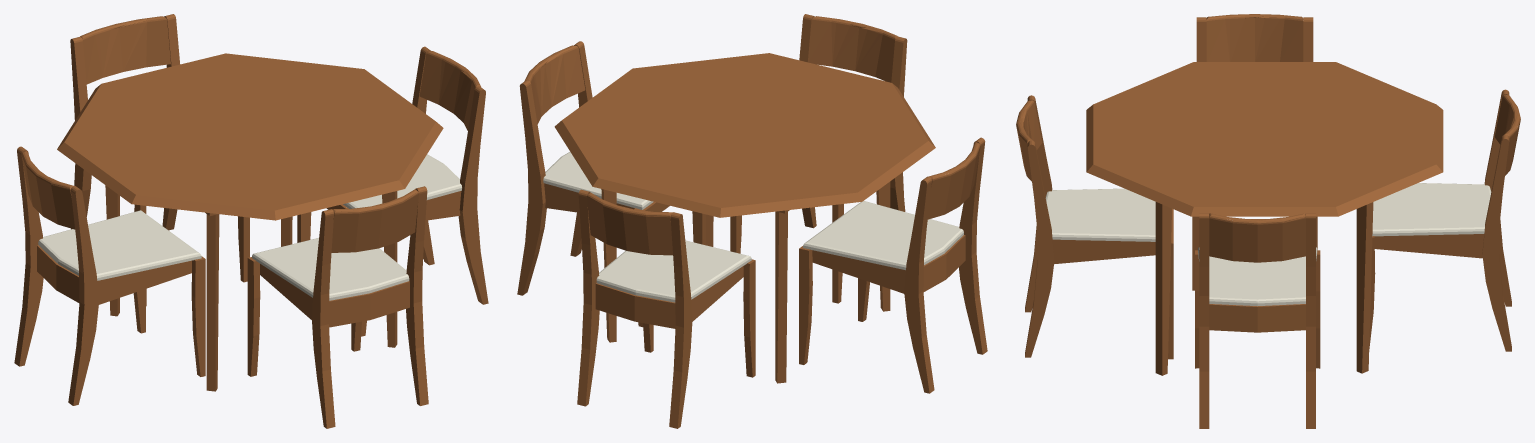
Rendered from DiningTable.glb.
The picture shows the model from 3 angles, left to right: view 1: azimuth 30°, elevation 25°; view 2: azimuth 150°, elevation 25°; view 3: azimuth 270°, elevation 25°; orthographic projection.
Parts seen in each view (by area): view 1: DiningTable; view 2: DiningTable; view 3: DiningTable.
Boxes of the visible parts, x1,y1,x2,y2 form: DiningTable: (14,14,488,428); DiningTable: (517,14,987,428); DiningTable: (1016,14,1520,428).
Size of the model in its own units: 2.19 by 1.04 by 2.24.
